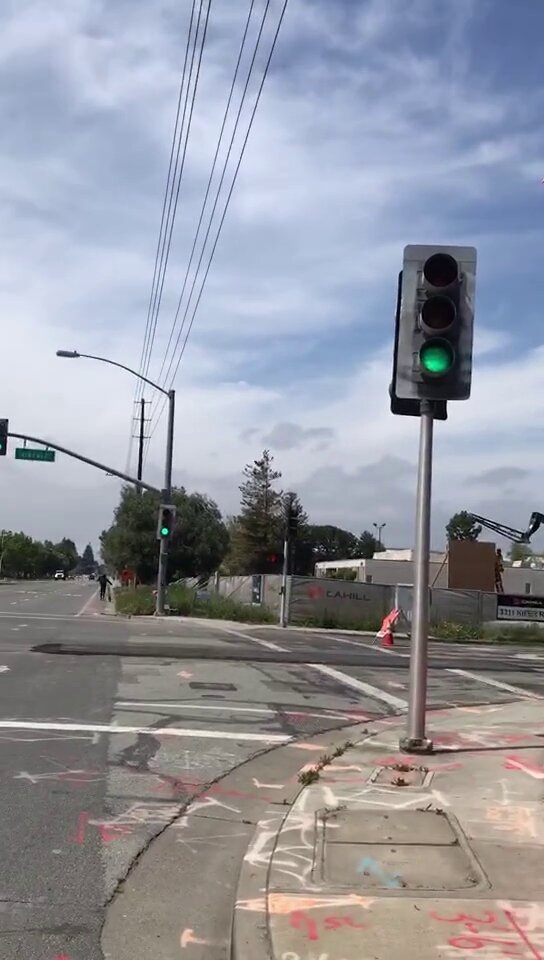green_light: (405, 245, 469, 395), (158, 507, 173, 539)
